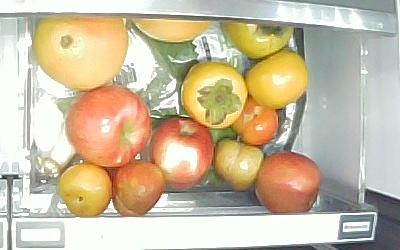apple: (66, 85, 153, 167), (148, 115, 215, 191), (253, 151, 321, 214)
grapefruit: (33, 14, 131, 91), (132, 17, 214, 44)
persimmon: (181, 62, 249, 129), (242, 47, 309, 108), (221, 19, 296, 59)
prune: (111, 159, 165, 217), (58, 163, 112, 218), (212, 138, 264, 191), (231, 96, 280, 146)
